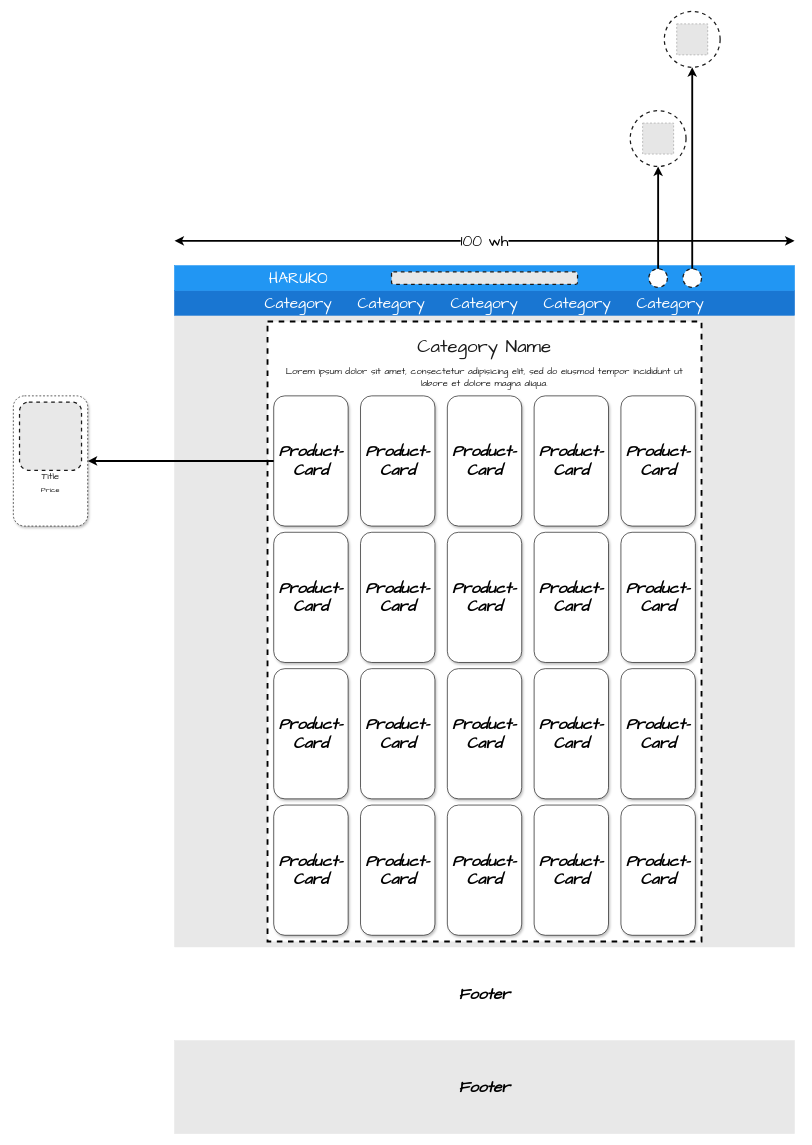
The diagram is 812 pixels wide and 1145 high, and some of its shapes have lost their labels. Grey dashed boxes stand in for pictures. Each missing label, with the centre of its shape:
Image: the point at 50,436
Search Bar: the point at 484,278
